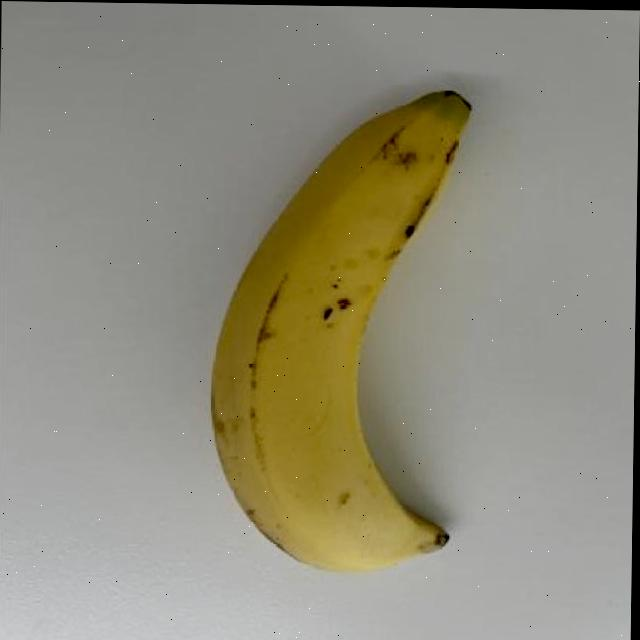banana: (203, 82, 484, 586)
